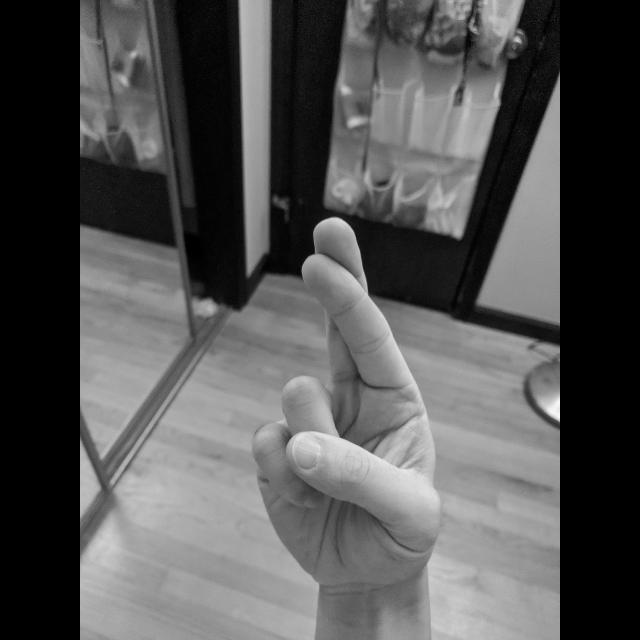R: (247, 213, 447, 597)
